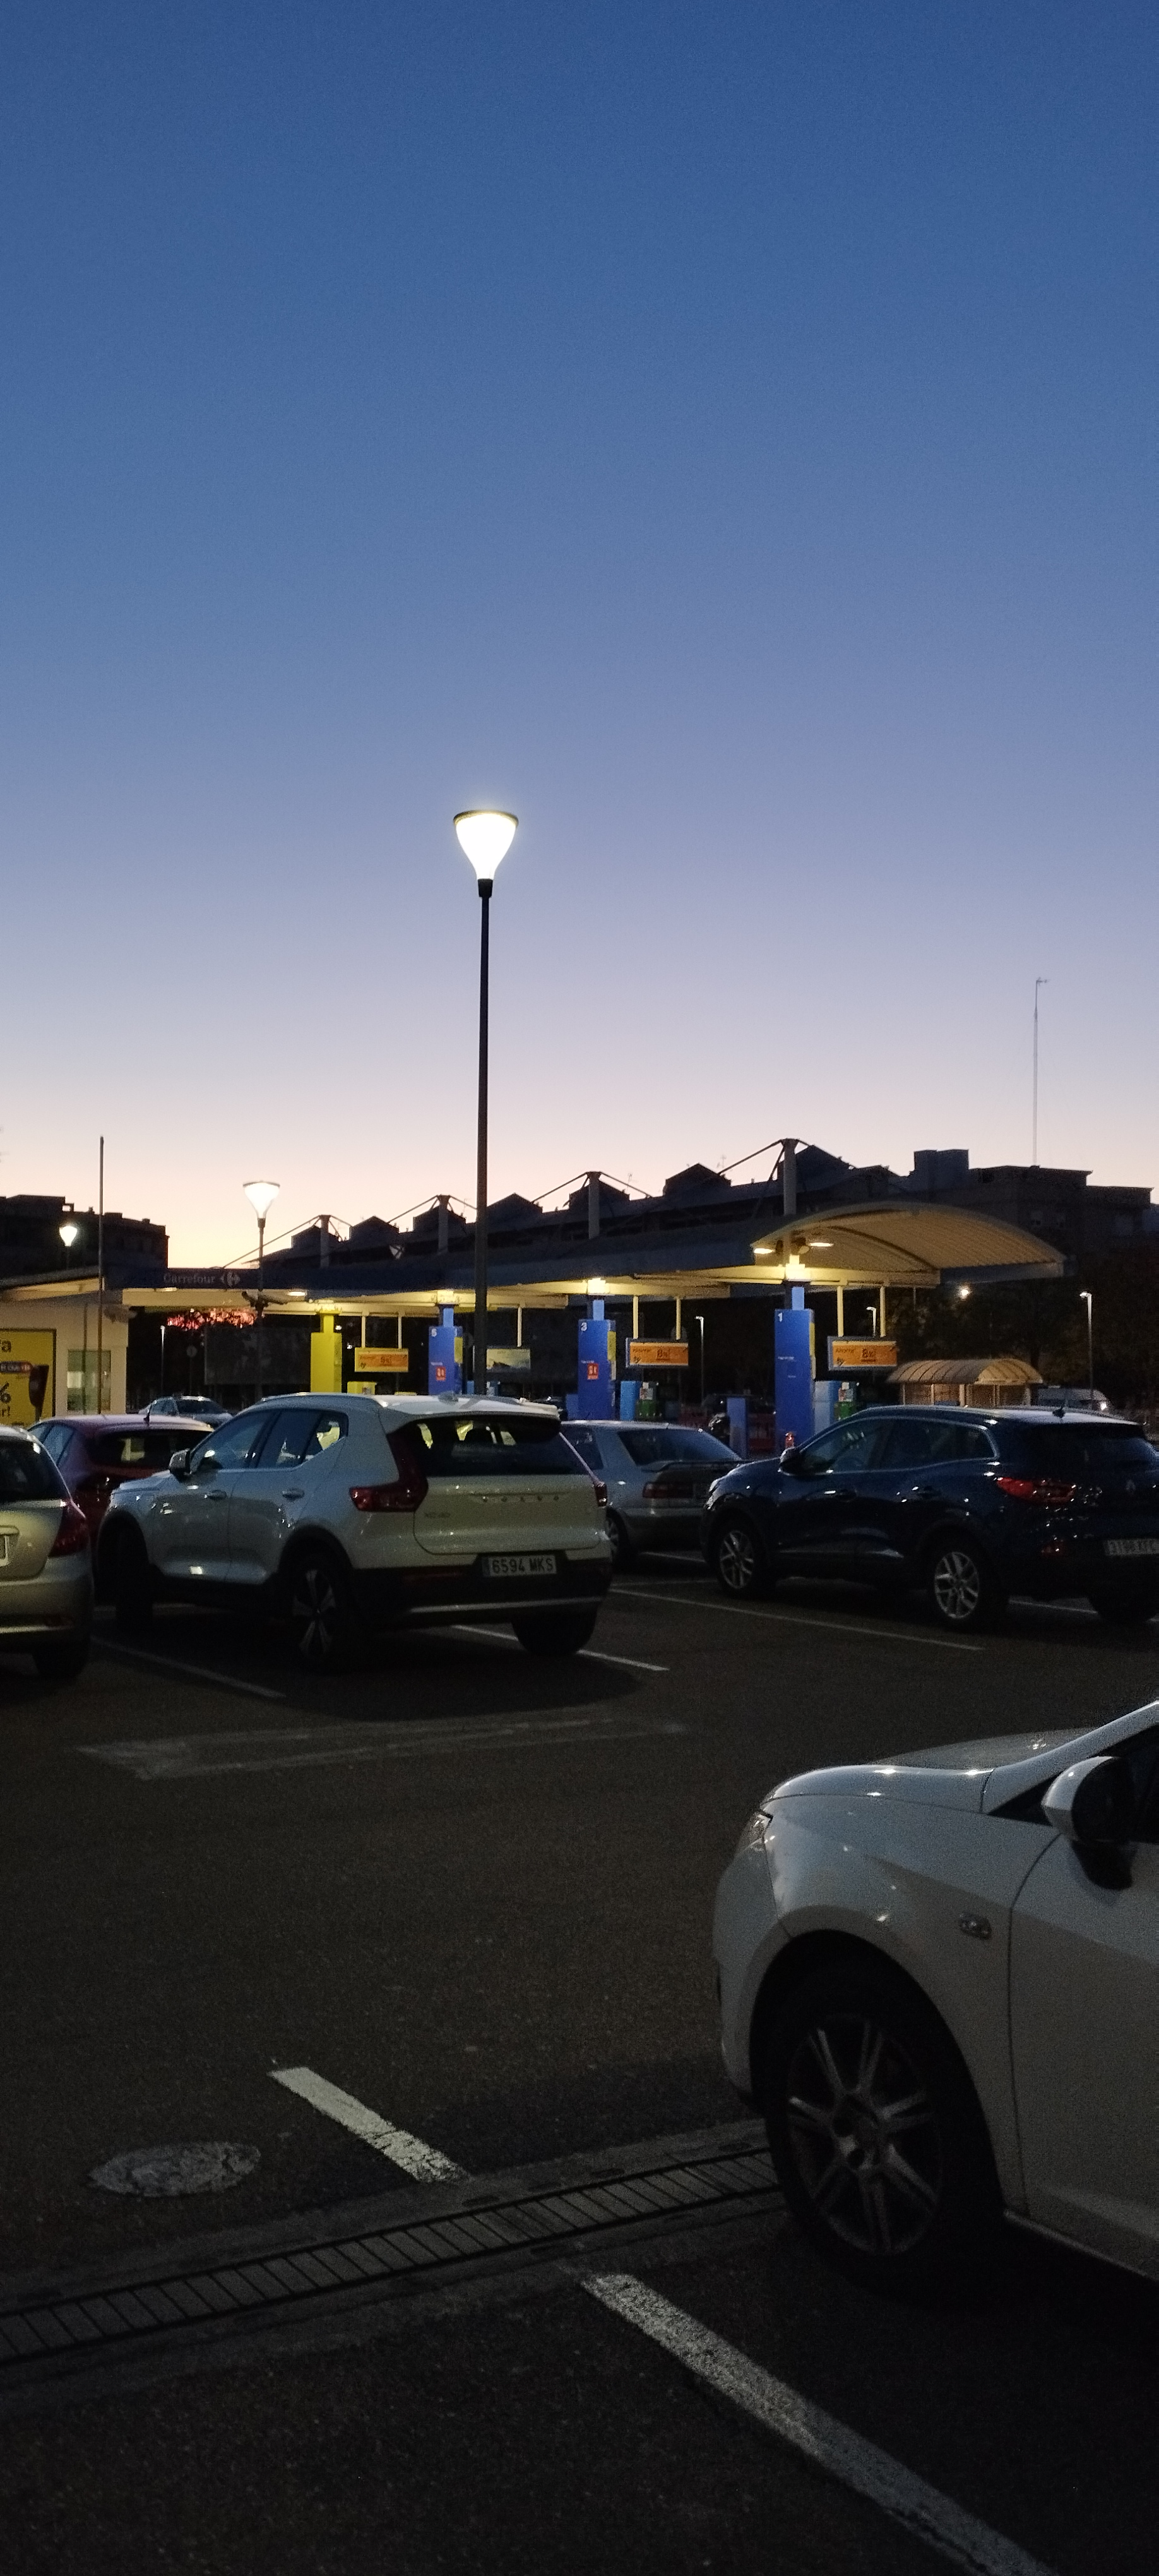Car: (100, 1395, 617, 1671), (699, 1403, 1158, 1632)
Plate: (485, 1556, 557, 1575), (1100, 1536, 1158, 1556)
